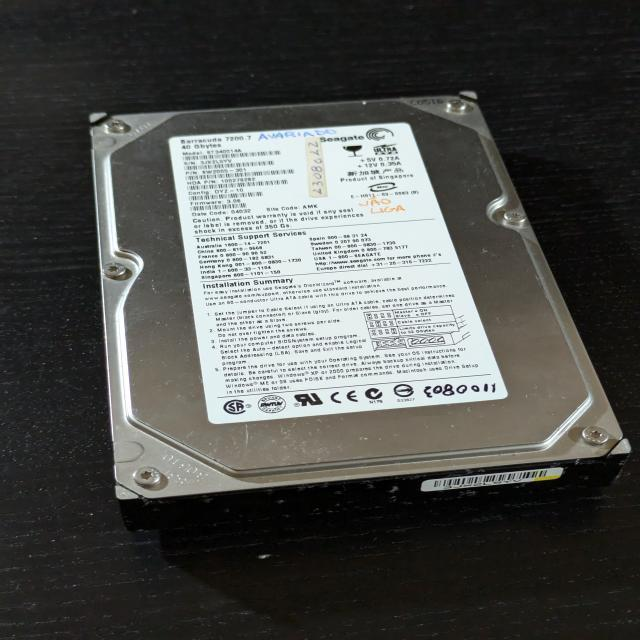DISK: (85, 90, 632, 536)
